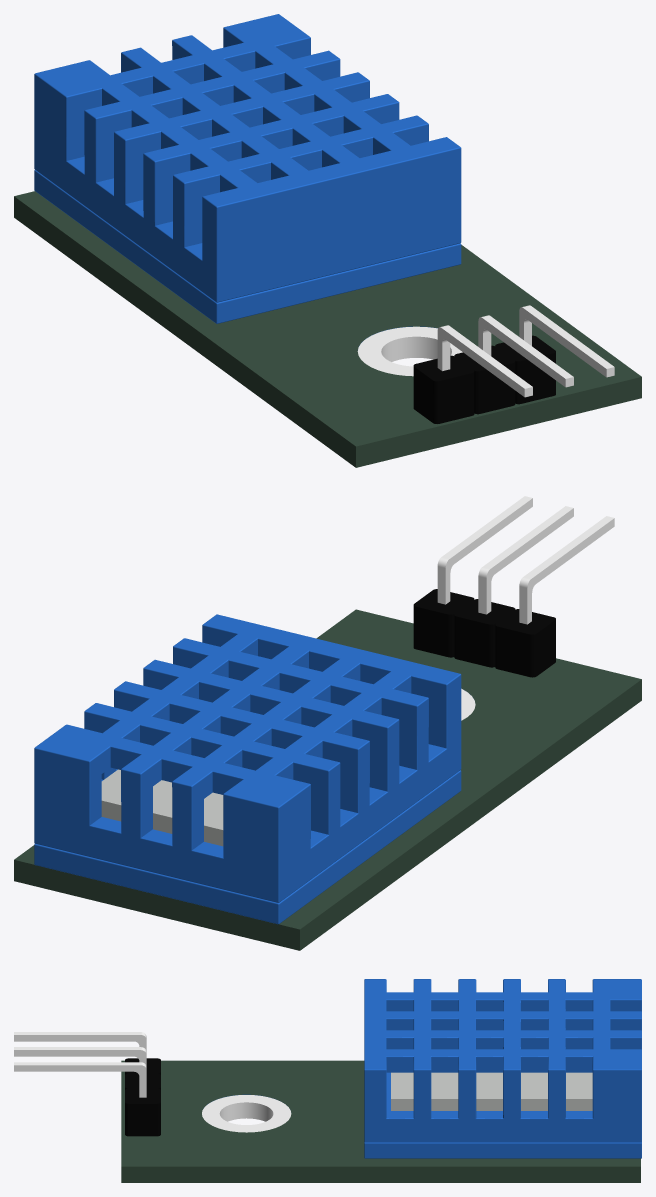
Rendered from DHT11 module.glb.
3 views of the same model, one above another, from view 1: azimuth 30°, elevation 25°; view 2: azimuth 150°, elevation 25°; view 3: azimuth 270°, elevation 25° (orthographic). The views are drawn at different scales.
Visible parts, largest first — view 1: SOLID, SOLID.001; view 2: SOLID, SOLID.001; view 3: SOLID.001, SOLID.
Part boxes in pixels (box(x1,y1,x2,y2)): SOLID: box(34, 14, 461, 302); SOLID.001: box(14, 170, 641, 467); SOLID: box(34, 614, 461, 902); SOLID.001: box(14, 496, 641, 950); SOLID.001: box(14, 1032, 641, 1182); SOLID: box(364, 979, 641, 1142).
Size of the model in its own units: 1.4 by 0.65 by 3.5.
